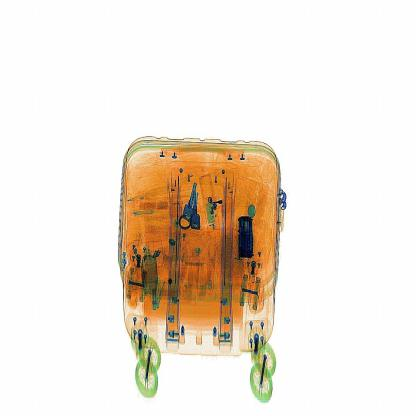scissors: (233, 209, 262, 263)
